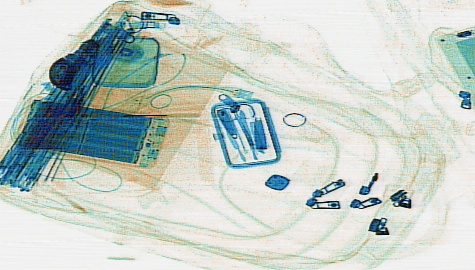powerbank: (14, 97, 170, 167)
scissors: (215, 96, 261, 160)
